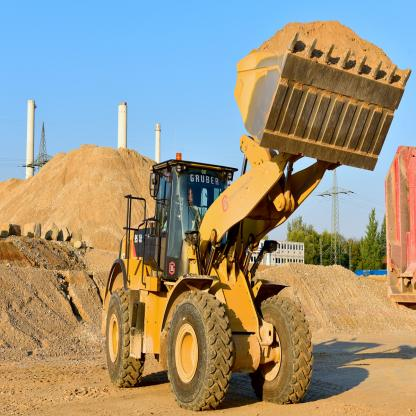bull_dozer/loader/grader: (97, 8, 413, 416)
